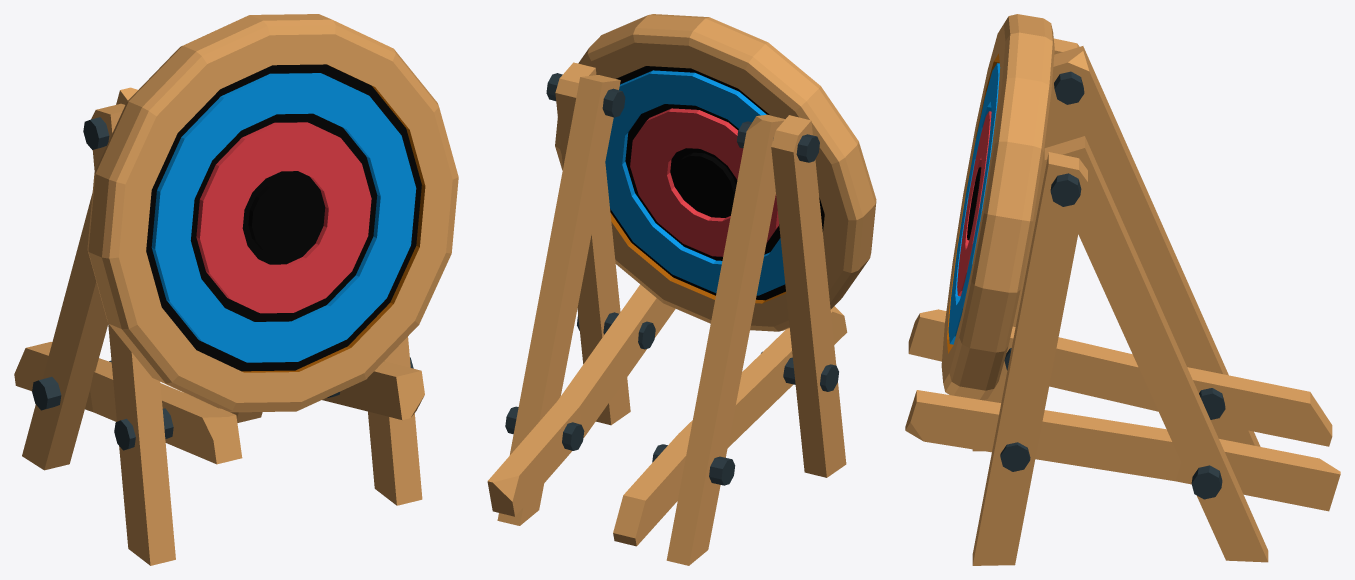
Rendered from Range Target 01.fbx.
3 views of the same model, side by side, from view 1: azimuth 30°, elevation 25°; view 2: azimuth 150°, elevation 25°; view 3: azimuth 270°, elevation 25° (orthographic). The views are drawn at different scales.
Visible parts, largest first — view 1: Range Target 01, Range Target Stander 01; view 2: Range Target Stander 01, Range Target 01; view 3: Range Target Stander 01, Range Target 01.
Part boxes in pixels (x1,y1,x2,y2): Range Target 01: [87, 14, 458, 412]; Range Target Stander 01: [14, 87, 424, 565]; Range Target Stander 01: [487, 62, 847, 565]; Range Target 01: [555, 14, 876, 331]; Range Target Stander 01: [905, 38, 1340, 565]; Range Target 01: [941, 14, 1054, 400].
Size of the model in its own units: 142 by 194 by 159.
